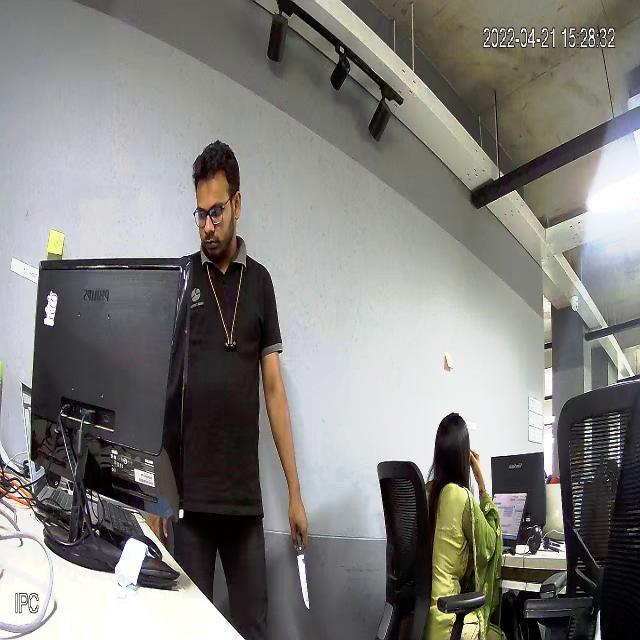Knife: (287, 522, 326, 616)
